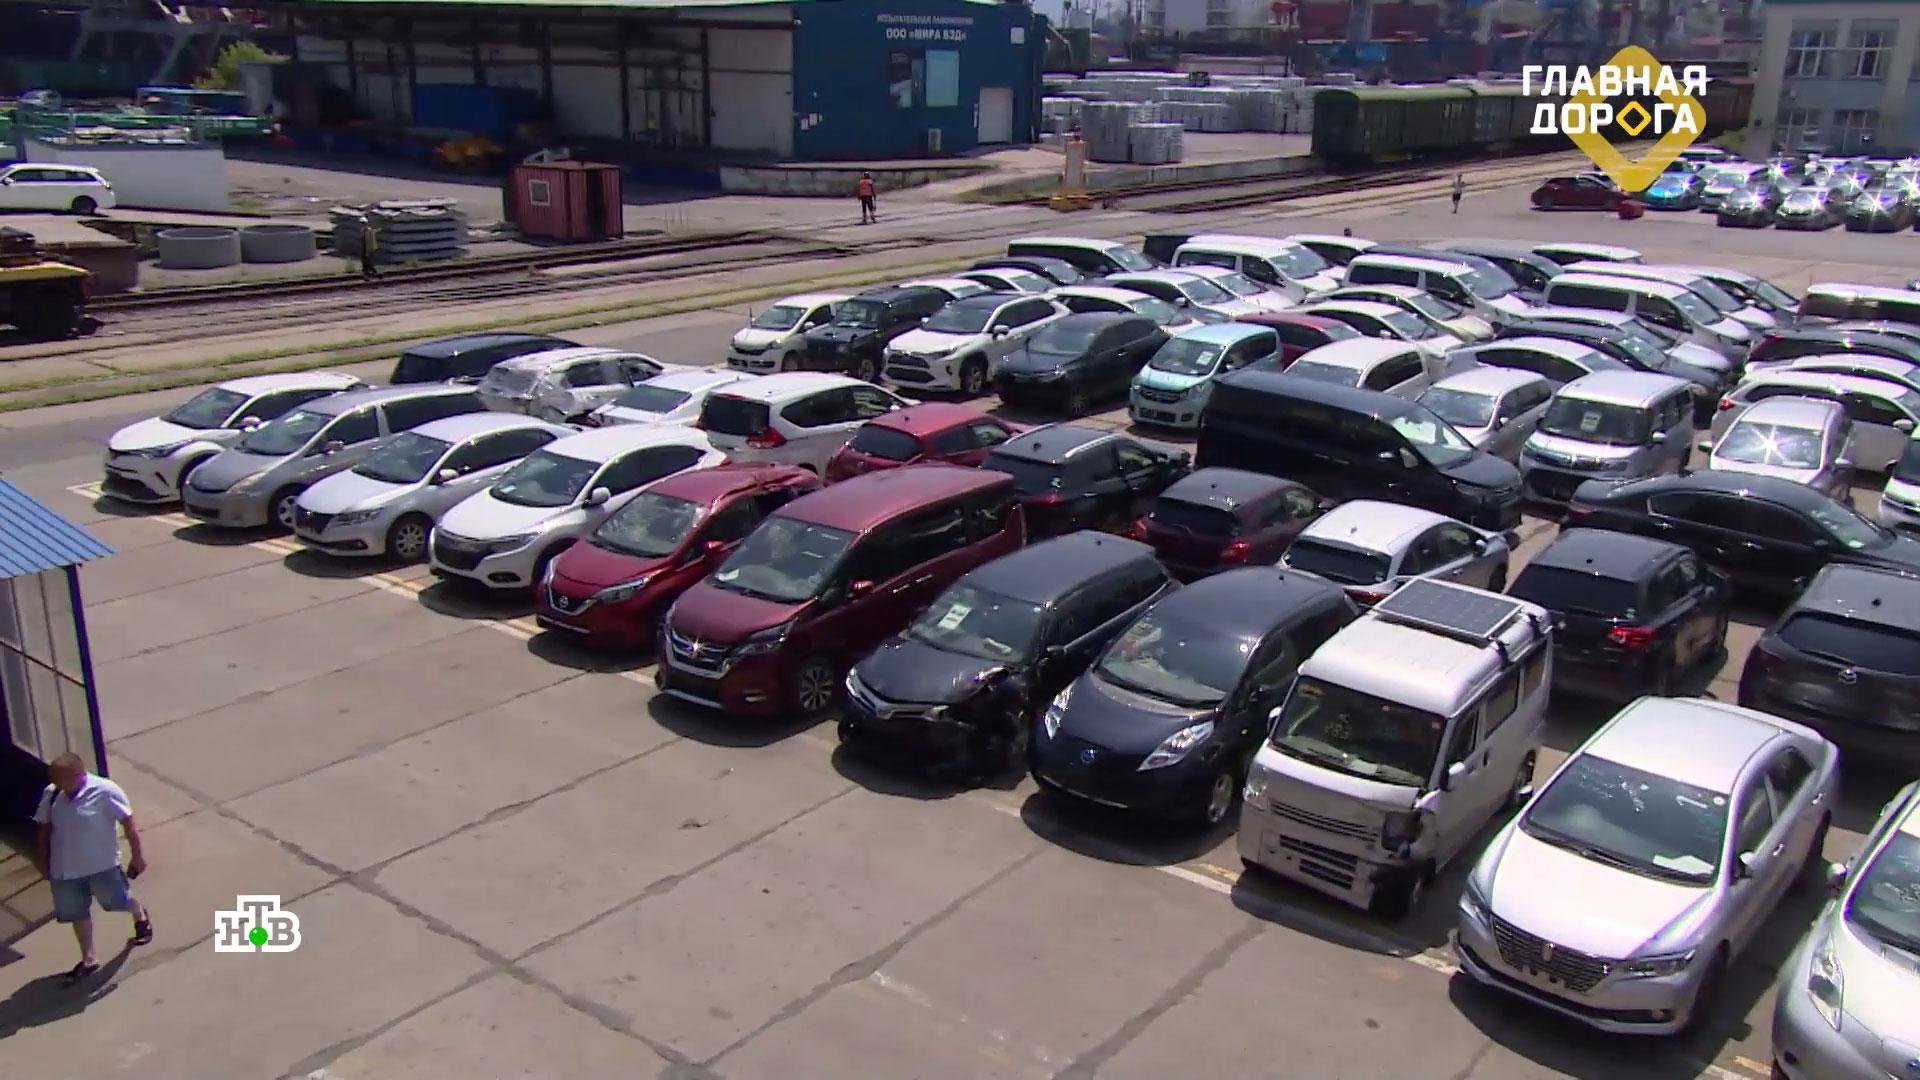Car: (1453, 698, 1840, 1036), (1236, 578, 1553, 919), (655, 465, 1026, 717), (1029, 567, 1358, 829), (839, 531, 1174, 774), (535, 463, 822, 651), (1197, 371, 1523, 534), (430, 425, 725, 592), (1564, 469, 1920, 605), (290, 410, 592, 563), (1768, 779, 1920, 1080), (183, 382, 483, 529), (1509, 527, 1730, 705), (1737, 564, 1920, 778), (102, 371, 364, 505), (1279, 501, 1511, 607), (1519, 371, 1696, 506), (1494, 320, 1726, 423), (982, 425, 1189, 539), (696, 373, 922, 473), (1130, 468, 1331, 580), (1712, 369, 1920, 475), (1544, 273, 1754, 367), (884, 294, 1067, 397), (996, 313, 1168, 415), (1561, 261, 1778, 340), (1129, 322, 1282, 433), (479, 345, 696, 423), (825, 404, 1034, 483), (1522, 307, 1733, 384), (1284, 301, 1466, 385), (798, 286, 956, 380), (1708, 396, 1851, 498), (1346, 255, 1530, 328), (1418, 367, 1553, 462), (1171, 235, 1338, 305), (1445, 338, 1636, 398), (1366, 245, 1544, 307), (1304, 287, 1495, 343), (390, 331, 585, 385), (727, 291, 851, 373), (1643, 265, 1800, 327), (588, 368, 752, 427), (1087, 272, 1274, 322), (1287, 338, 1437, 400), (1042, 286, 1200, 334), (1737, 356, 1920, 393), (1743, 328, 1920, 367), (1225, 235, 1348, 285), (1236, 313, 1357, 363), (0, 162, 116, 214), (1153, 266, 1294, 309), (1006, 237, 1156, 277), (1792, 284, 1920, 330), (1445, 245, 1568, 291), (1876, 425, 1920, 535), (1530, 174, 1635, 211), (967, 257, 1089, 287), (1775, 185, 1846, 231), (1698, 165, 1768, 211), (1284, 233, 1373, 268), (1718, 182, 1783, 228), (1530, 241, 1647, 266), (1845, 189, 1912, 231), (951, 269, 1051, 294), (1644, 173, 1709, 210), (1826, 320, 1920, 344), (905, 278, 992, 298), (1696, 164, 1747, 182), (16, 90, 62, 109)
